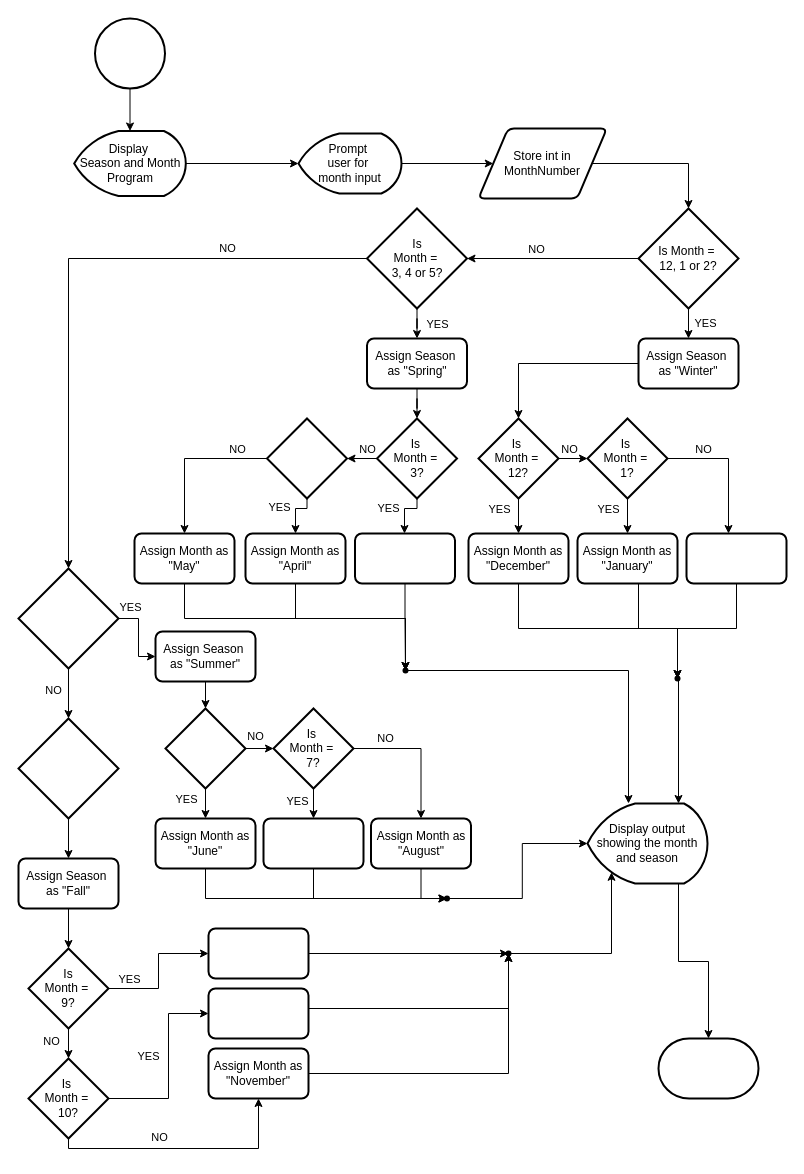
Image size: 804x1174. Some labels were removed from this diagram. Each missing label, with the centre of its shape:
Assign Month as "February": (x=736, y=558)
Assign Month as "July": (x=313, y=843)
Assign Month as "March": (x=405, y=558)
Assign Month as "October": (x=258, y=1013)
Assign Month as "September": (x=258, y=953)
Else If Month = 9, 10 or 11: (x=68, y=768)
End: (x=708, y=1068)
Is Month = 4?: (x=307, y=458)
Is Month = 6, 7 or 8?: (x=68, y=618)
Is Month = 6?: (x=205, y=748)
Start: (x=130, y=53)
